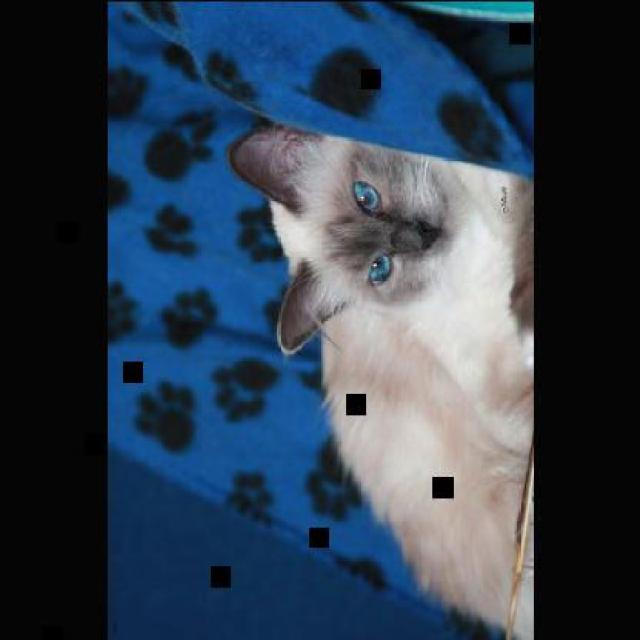unauthorized: (227, 120, 536, 638)
